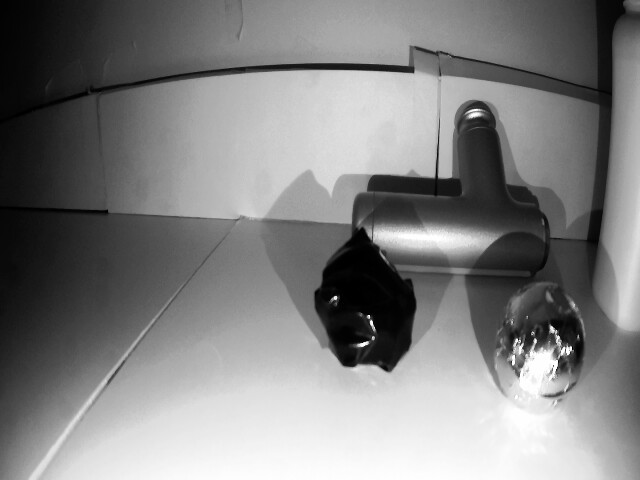black: (502, 277, 586, 416)
silver: (311, 245, 428, 371)
